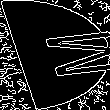M_W: (7, 27, 103, 83)
